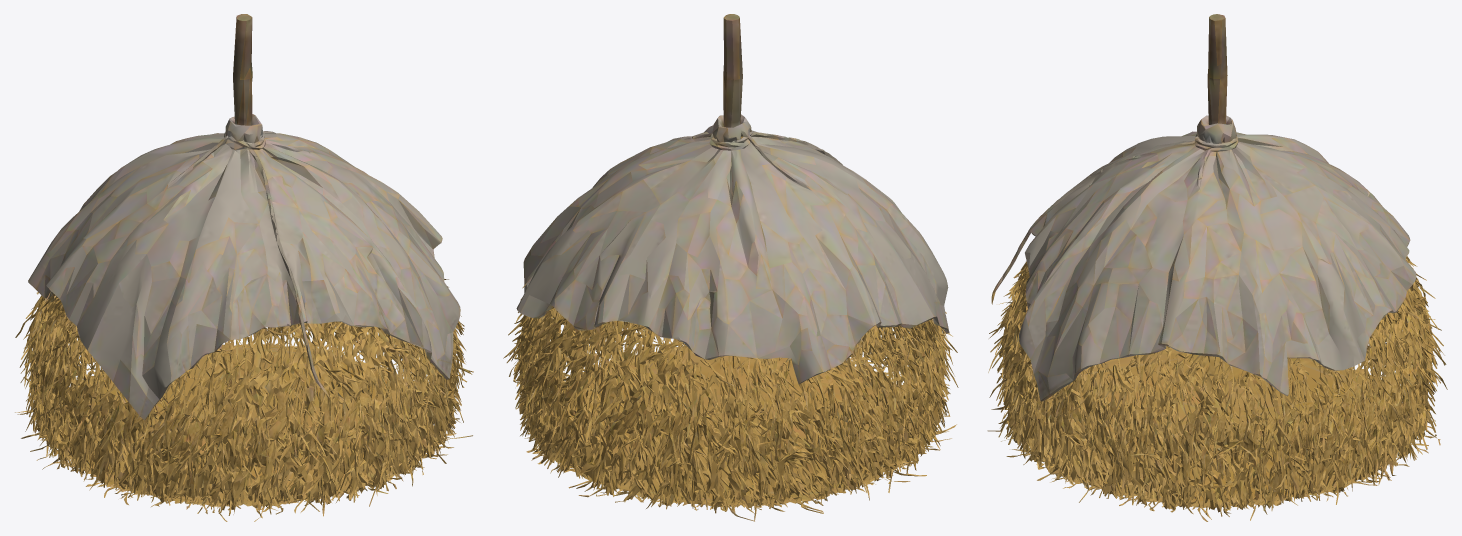
File: haystack-cloth.glb
3 views of the same model, side by side, from view 1: azimuth 30°, elevation 25°; view 2: azimuth 150°, elevation 25°; view 3: azimuth 270°, elevation 25° (orthographic).
Visible parts, largest first — view 1: output_unwrapped; view 2: output_unwrapped; view 3: output_unwrapped.
Part boxes in pixels (x1,y1,x2,y2): output_unwrapped: (15,14,473,521); output_unwrapped: (503,14,958,521); output_unwrapped: (987,14,1447,521).
Size of the model in its own units: 1.93 by 1.88 by 1.9.
Materials: 1 (1 with a texture image).
